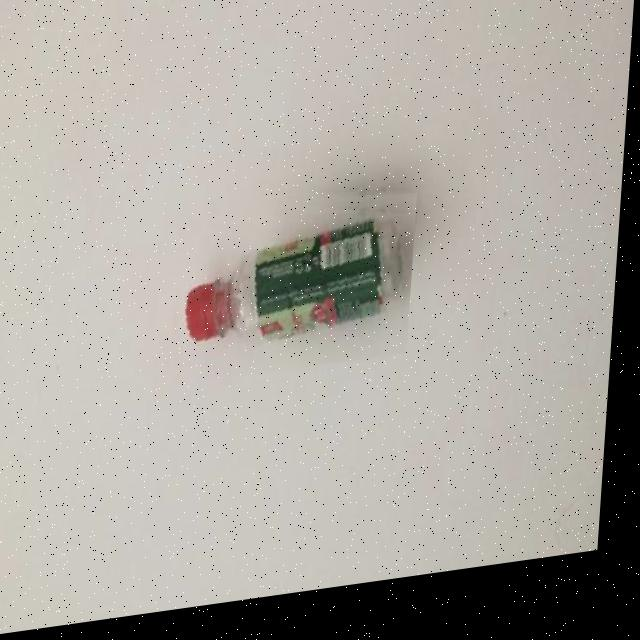plasticbottle: (162, 182, 422, 394)
plasticbottlecap: (169, 276, 240, 379)
